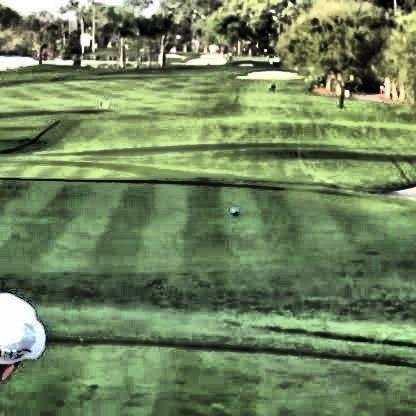golfball: (98, 98, 106, 106)
